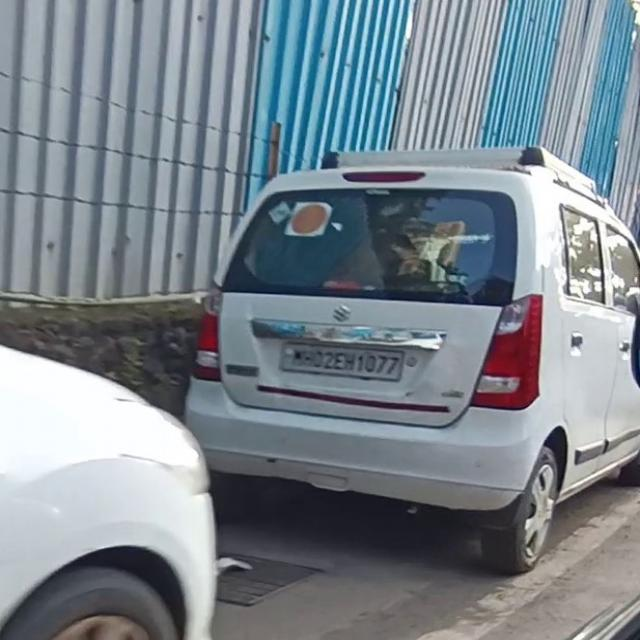license-plate: (279, 340, 402, 380)
